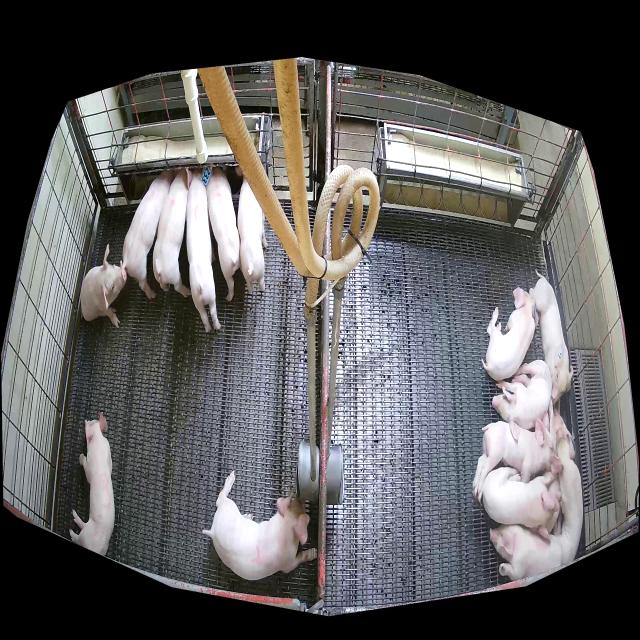pig: (202, 471, 318, 580), (472, 411, 558, 503), (120, 170, 176, 299), (68, 412, 114, 556), (529, 270, 574, 405), (186, 167, 221, 333), (482, 468, 561, 541), (206, 167, 243, 302), (482, 287, 535, 381), (153, 168, 191, 296), (492, 361, 552, 439), (550, 429, 583, 565), (235, 167, 268, 294), (490, 524, 562, 581), (80, 244, 126, 328), (549, 398, 572, 449)
